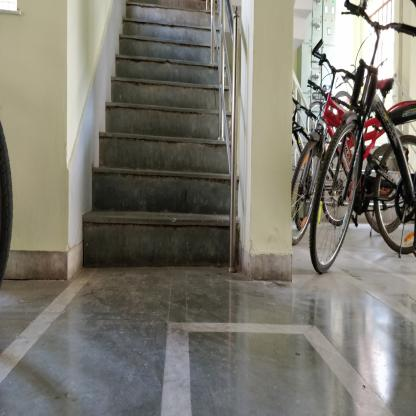stairs: (123, 17, 211, 278)
